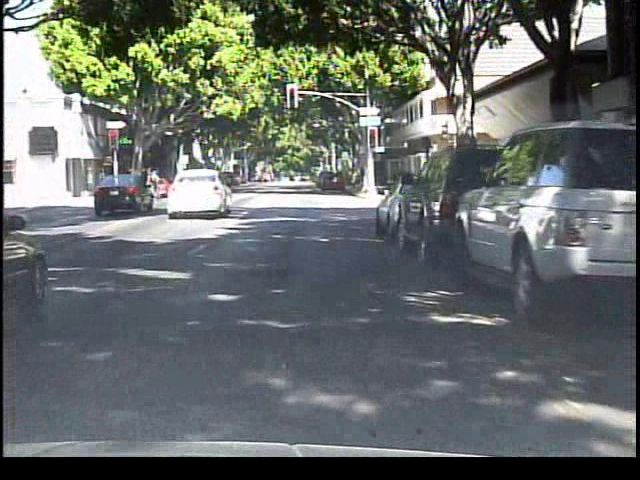person: (147, 165, 165, 195)
